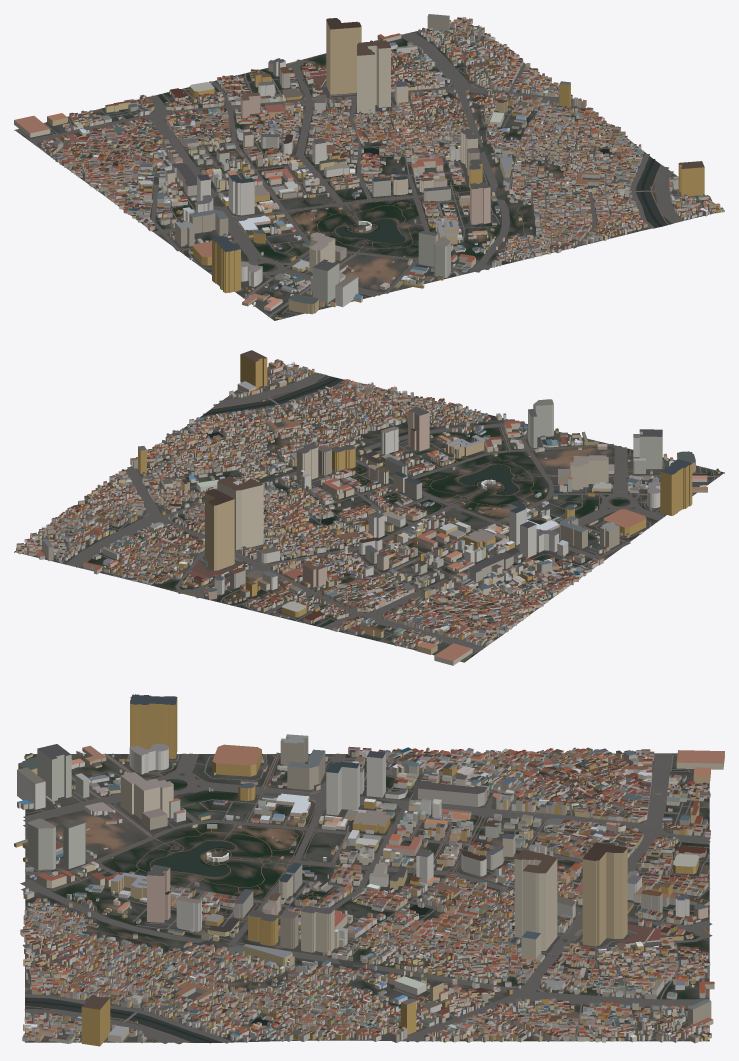
The picture shows the model from 3 angles, top to bottom: view 1: azimuth 30°, elevation 25°; view 2: azimuth 150°, elevation 25°; view 3: azimuth 270°, elevation 25°; orthographic projection. The views are drawn at different scales.
Visible parts, largest first — view 1: buildings, ground, roads, water; view 2: buildings, ground, roads, water; view 3: buildings, ground, roads, water.
Part boxes in pixels (left/top/right/bottom): buildings: left=14, top=14, right=723, bottom=319; ground: left=14, top=22, right=724, bottom=320; roads: left=17, top=26, right=712, bottom=318; water: left=50, top=129, right=667, bottom=243; buildings: left=16, top=350, right=720, bottom=665; ground: left=14, top=366, right=724, bottom=662; roads: left=25, top=365, right=720, bottom=661; water: left=201, top=376, right=516, bottom=635; buildings: left=14, top=694, right=724, bottom=1046; ground: left=25, top=753, right=709, bottom=1042; roads: left=20, top=752, right=712, bottom=1044; water: left=25, top=768, right=694, bottom=1043.
Size of the model in its own units: 1444 by 200 by 1456.
